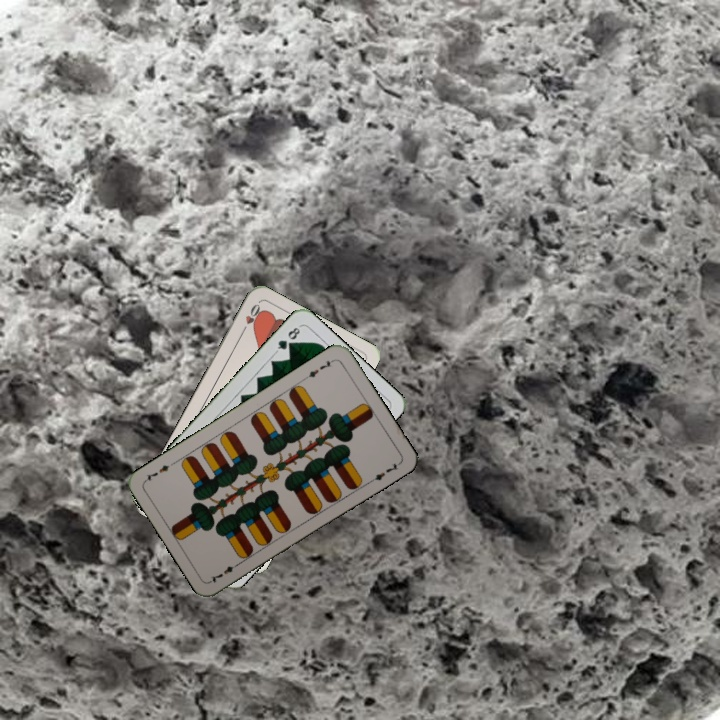E7: (300, 355, 337, 382), (206, 558, 243, 585)
G8: (272, 322, 303, 355)
HO: (237, 300, 264, 337)
